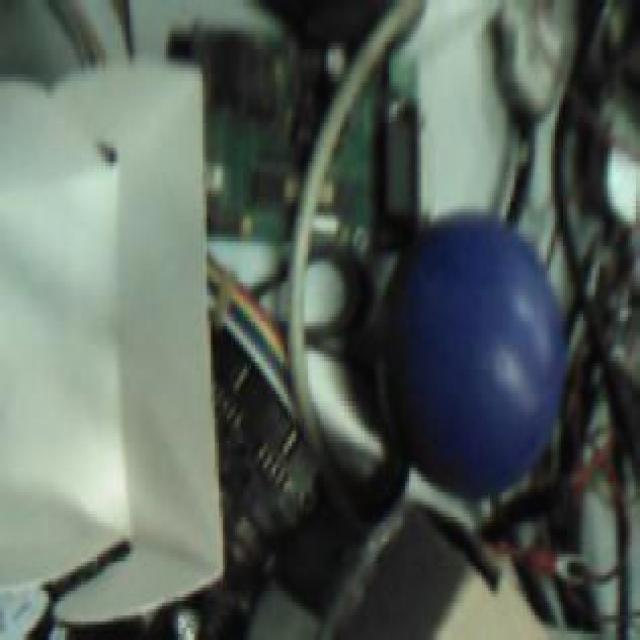BallPurple: (378, 208, 564, 495)
